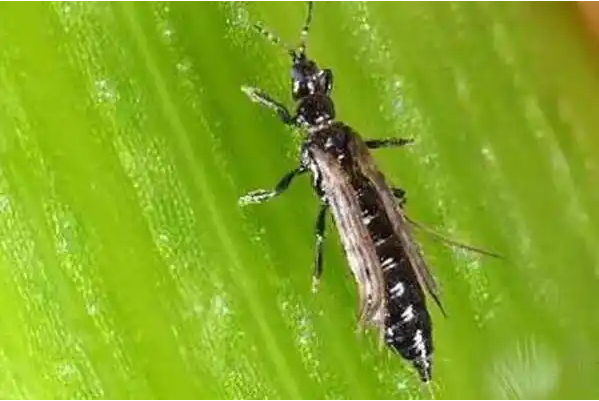thrips: (232, 3, 499, 383)
